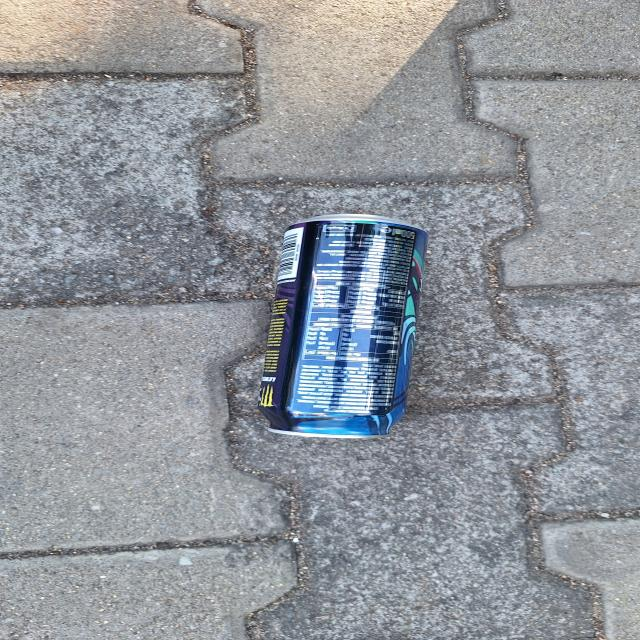Monster LH44: (259, 212, 415, 441)
